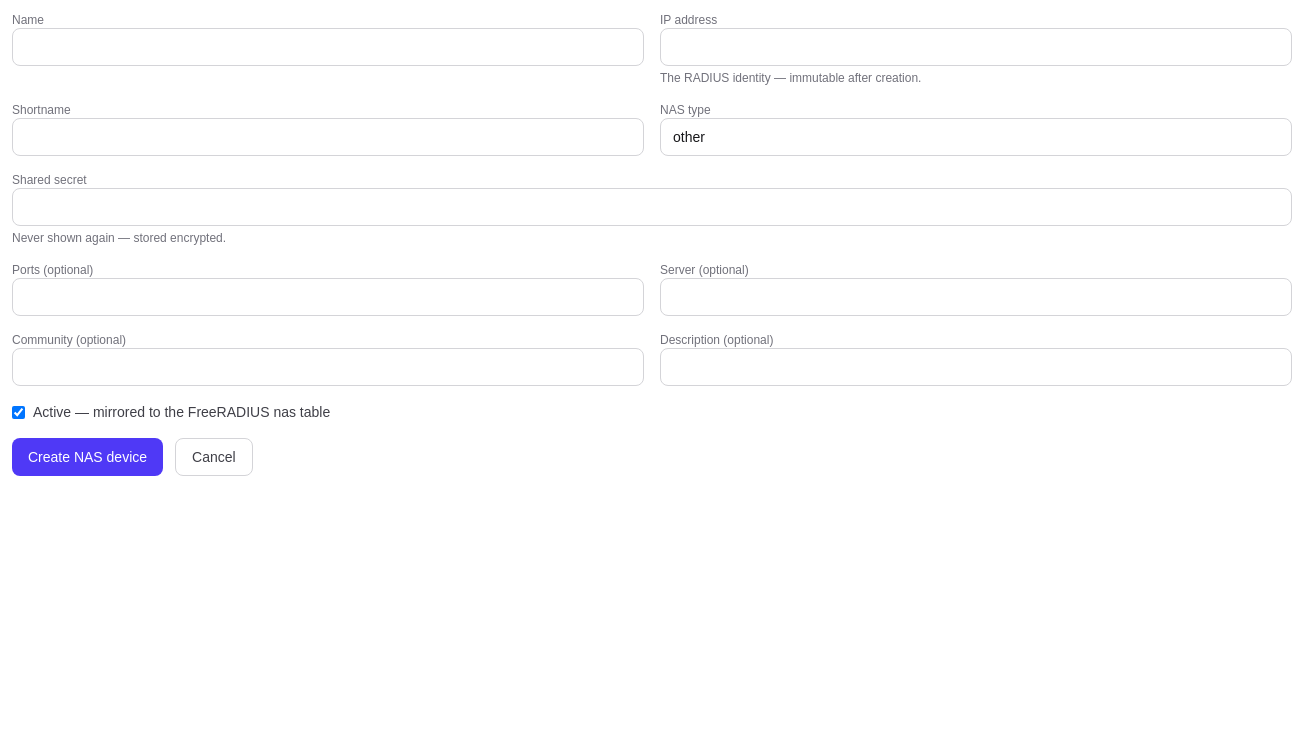
Test case: NasDeviceForm (create) › requires the shared secret on create
The width and height of the screenshot is (1304, 732).
Type "edge-r2" into the field labelled "Name" at x=328, y=47, box [12,28,644,66]
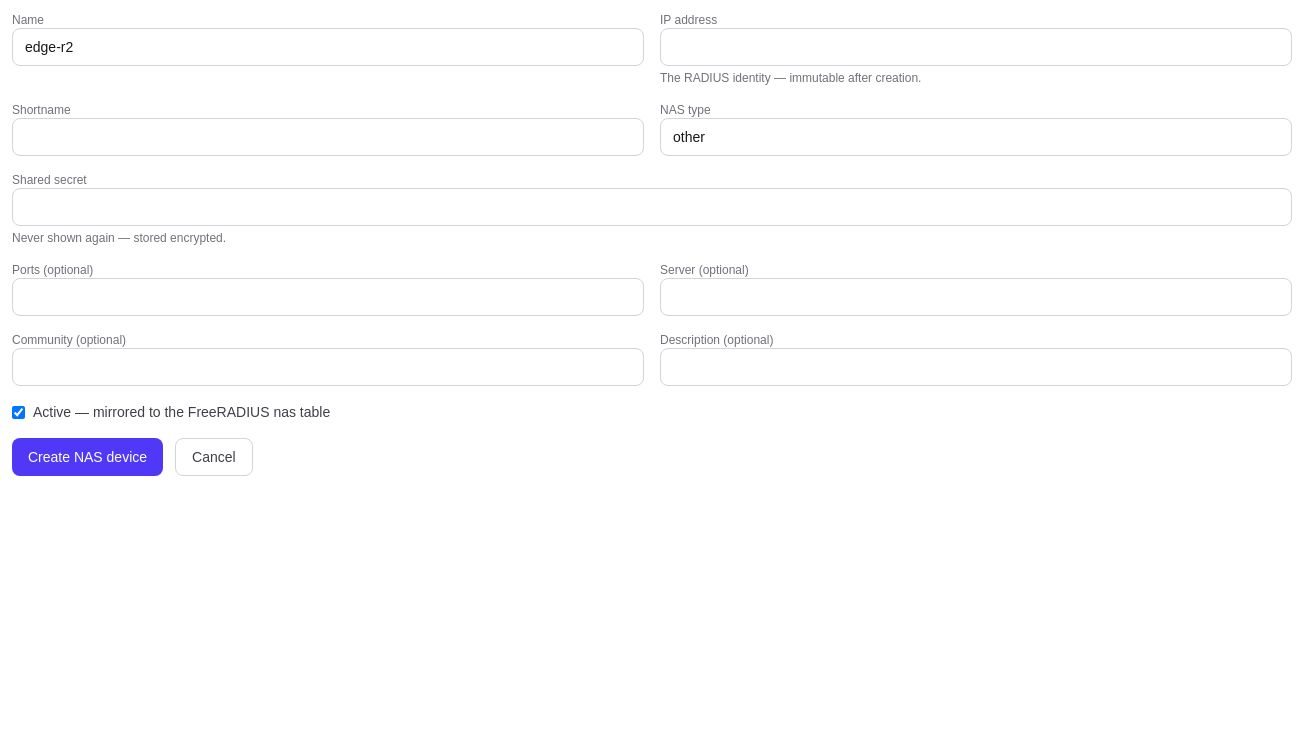
Type "10.0.0.1" into the field labelled "IP address" at x=976, y=47, box [660,28,1292,66]
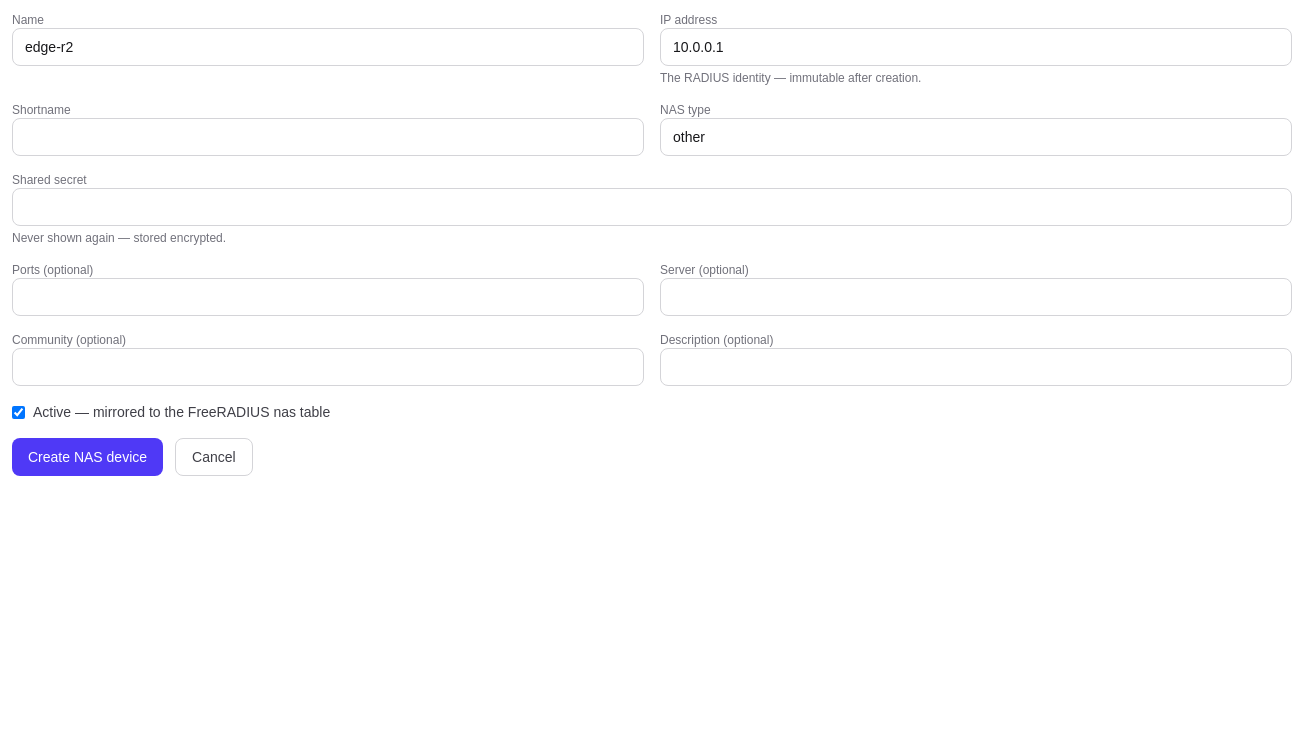
Type "edge2" into the field labelled "Shortname" at x=328, y=137, box [12,118,644,156]
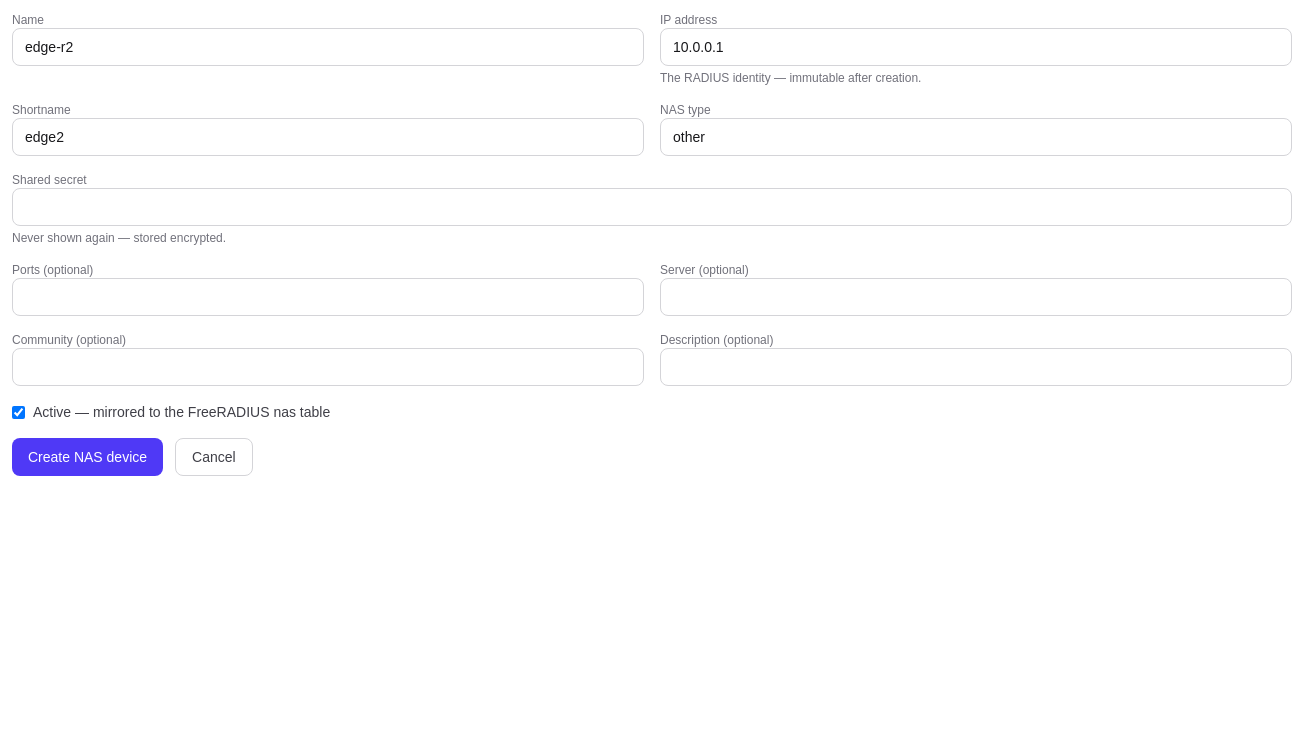
Click the button "Create NAS device" at x=88, y=457, box [12,438,163,476]
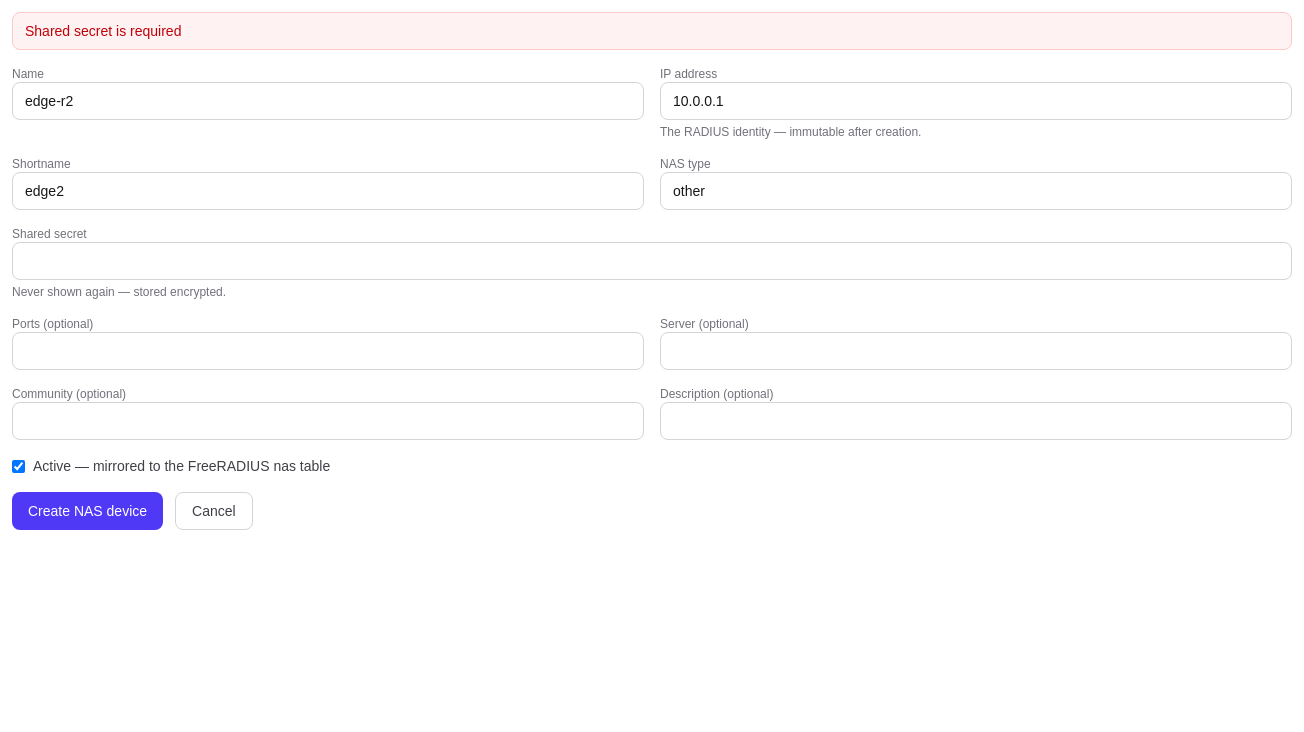
Now the message reads "Shared secret is required", box [25,23,181,39]
